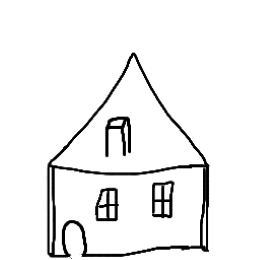bottom_placed_house: (2, 1, 260, 260)
chimney: (98, 110, 143, 161)
closed_window: (146, 175, 177, 220), (91, 183, 122, 228)
door: (54, 214, 98, 260)
roof: (41, 39, 220, 177)
wall: (39, 159, 218, 257)
